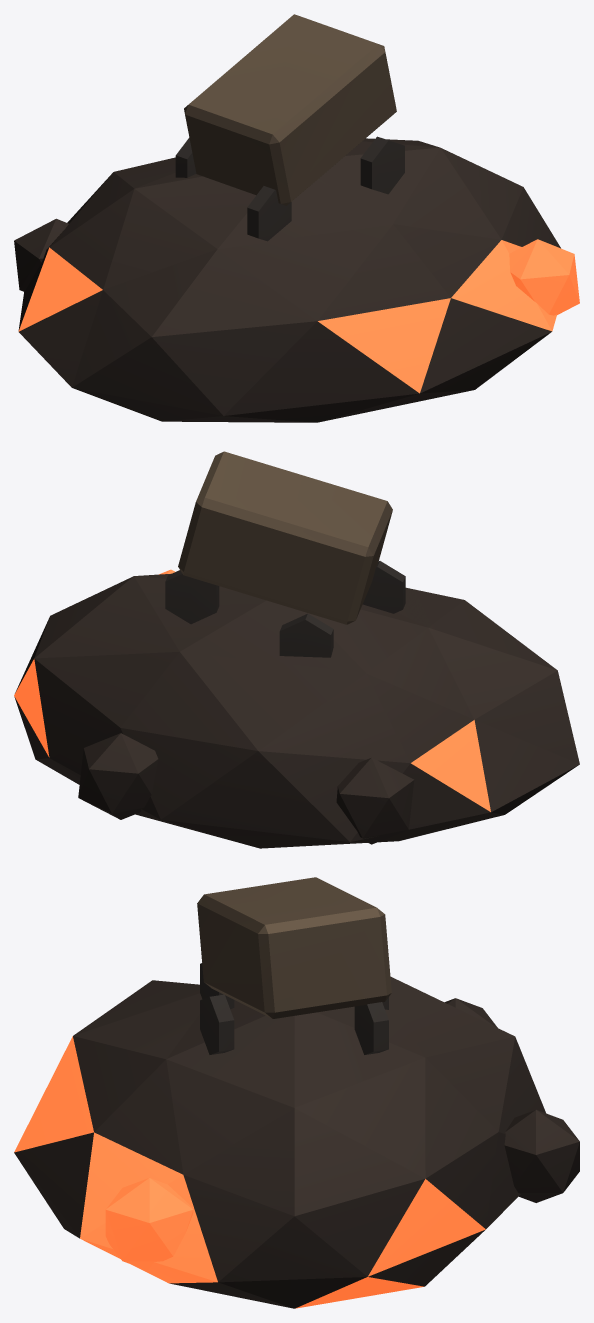
File: volcanic_vent_c.glb
3 views of the same model, one above another, from view 1: azimuth 30°, elevation 25°; view 2: azimuth 150°, elevation 25°; view 3: azimuth 270°, elevation 25° (orthographic). The views are drawn at different scales.
Visible parts, largest first — view 1: volcanic_vent_c; view 2: volcanic_vent_c; view 3: volcanic_vent_c.
Boxes of the visible parts, bbox=[...] form: volcanic_vent_c: bbox=[14, 14, 579, 422]; volcanic_vent_c: bbox=[14, 451, 579, 848]; volcanic_vent_c: bbox=[14, 877, 579, 1308].
Bounding box in the file's own units: 1.9 × 1.01 × 1.72.
